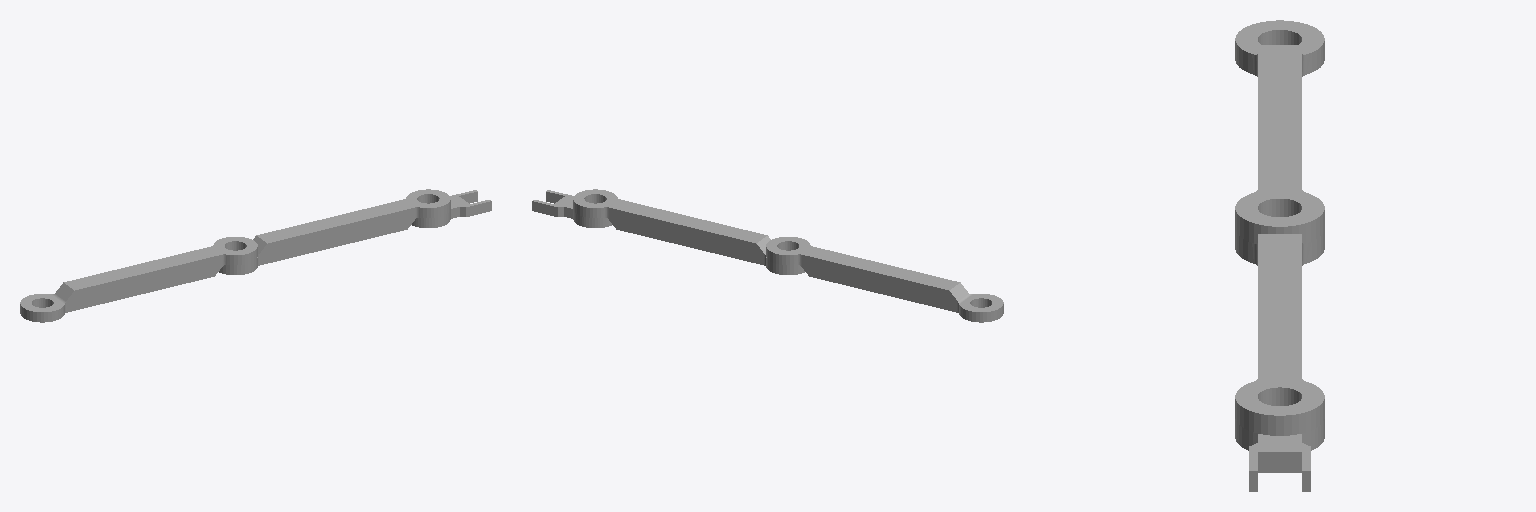
URDF robot description (planar_3dof):
<robot name="planar_3dof">

  <link name="base_link"/>

  <link name="link_1">
    <visual>
      <geometry>
        <mesh filename="package://lesson_urdf/meshes/visual/arm_link.stl"/>
      </geometry>
      <material name="grey">
        <color rgba="0.7 0.7 0.7 1.0"/>
      </material>
    </visual>
    <collision>
      <geometry>
        <mesh filename="package://lesson_urdf/meshes/collision/arm_link.stl"/>
      </geometry>
    </collision>
  </link>

  <link name="link_2">
    <visual>
      <geometry>
        <mesh filename="package://lesson_urdf/meshes/visual/arm_link.stl"/>
      </geometry>
      <material name="grey"/>
    </visual>
    <collision>
      <geometry>
        <mesh filename="package://lesson_urdf/meshes/collision/arm_link.stl"/>
      </geometry>
    </collision>
  </link>

  <link name="gripper">
    <visual>
      <geometry>
        <mesh filename="package://lesson_urdf/meshes/visual/gripper.stl"/>
      </geometry>
      <material name="grey"/>
    </visual>
    <collision>
      <geometry>
        <mesh filename="package://lesson_urdf/meshes/collision/gripper.stl"/>
      </geometry>
    </collision>
  </link>

  <joint name="joint_1" type="revolute">
    <origin xyz="0 0 0" rpy="0 0 0"/>
    <parent link="base_link"/>
    <child link="link_1"/>
    <axis xyz="0 0 1"/>
    <limit lower="-1.57" upper="1.57" effort="0" velocity="0.5"/>
  </joint>

  <joint name="joint_2" type="revolute">
    <origin xyz="0.5 0 0" rpy="0 0 0"/>
    <parent link="link_1"/>
    <child link="link_2"/>
    <axis xyz="0 0 1"/>
    <limit lower="-1.57" upper="1.57" effort="0" velocity="0.5"/>
  </joint>

  <joint name="joint_3" type="revolute">
    <origin xyz="0.5 0 0" rpy="0 0 0"/>
    <parent link="link_2"/>
    <child link="gripper"/>
    <axis xyz="0 0 1"/>
    <limit lower="-1.57" upper="1.57" effort="0" velocity="0.5"/>
  </joint>
</robot>

--- What the picture shows (computed from the rendered views, not written in the file) ---
The picture shows the robot from 3 angles, left to right: view 1: azimuth 30°, elevation 25°; view 2: azimuth 150°, elevation 25°; view 3: azimuth 270°, elevation 25°; orthographic projection.
Model planar_3dof with 4 links and 3 joints (3 revolute), rooted at base_link, posed every joint at zero.
Visible links, largest first — view 1: link_1, link_2, gripper; view 2: link_1, link_2, gripper; view 3: link_1, link_2, gripper.
Link boxes in pixels (x1,y1,x2,y2): link_1: (20,237,257,322); link_2: (219,189,450,274); gripper: (412,190,491,227); link_1: (766,237,1003,322); link_2: (573,189,804,274); gripper: (532,190,611,227); link_1: (1235,20,1324,243); link_2: (1235,230,1324,435); gripper: (1235,419,1324,491).
Bounding box of the posed robot: 1.19 × 0.1 × 0.05 m (x, y, z).
Meshes: 2 distinct files referenced, 3 mesh visuals loaded (2 binary STL).